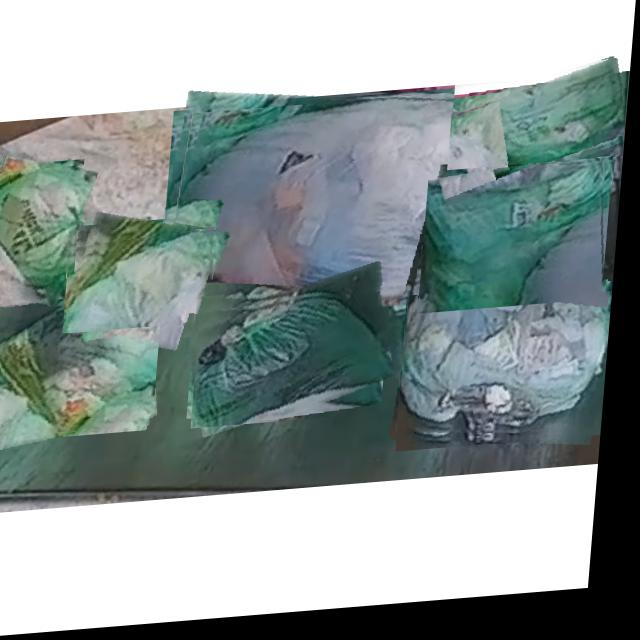general_trashbag: (0, 254, 167, 434), (429, 171, 608, 319), (201, 301, 401, 431), (453, 69, 628, 174), (68, 233, 217, 334), (0, 168, 95, 308)
other_trashbag: (176, 105, 507, 308), (408, 295, 617, 443)
